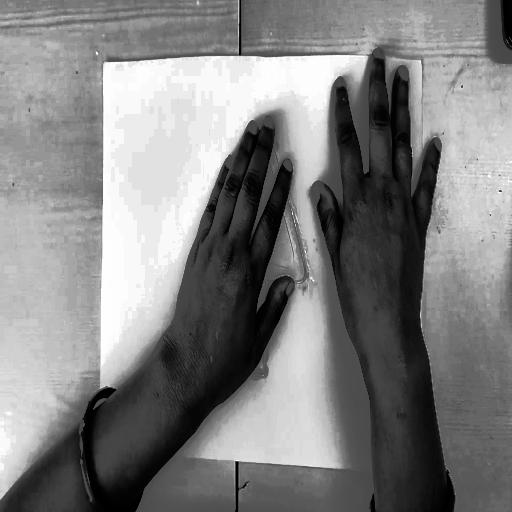bottom_left: (98, 448, 103, 463)
bottom_right: (408, 461, 416, 476)
signboard: (200, 129, 316, 400)
top_left: (99, 54, 108, 72)
top_right: (416, 51, 428, 70)
